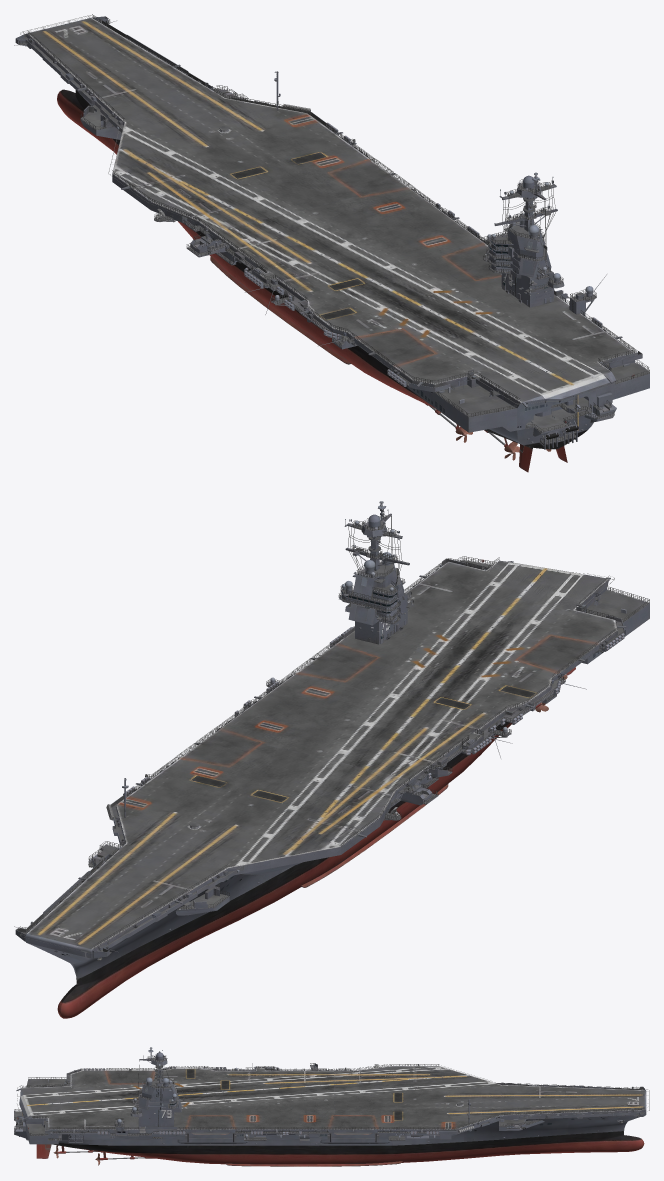
The model's file is uss_john_f._kennedy_cvn-79_aircraft_carrier.glb.
3 renders of one model, top to bottom at view 1: azimuth 30°, elevation 25°; view 2: azimuth 150°, elevation 25°; view 3: azimuth 270°, elevation 25°, orthographic. The views are drawn at different scales.
Parts seen in each view (by area): view 1: Object_2, Object_3; view 2: Object_2, Object_3; view 3: Object_2, Object_3.
Part boxes in pixels (<box>): Object_2: <box>14,16,649,472</box>; Object_3: <box>18,14,649,443</box>; Object_2: <box>14,501,649,1018</box>; Object_3: <box>19,509,649,953</box>; Object_2: <box>14,1047,646,1166</box>; Object_3: <box>14,1054,649,1141</box>.
Bounding box in the file's own units: 116 × 90.88 × 400.
Materials: 2 (2 with a texture image).
